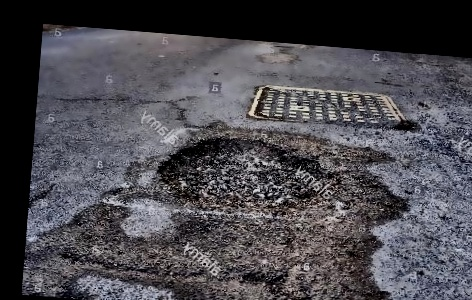pothole: (154, 129, 348, 219)
